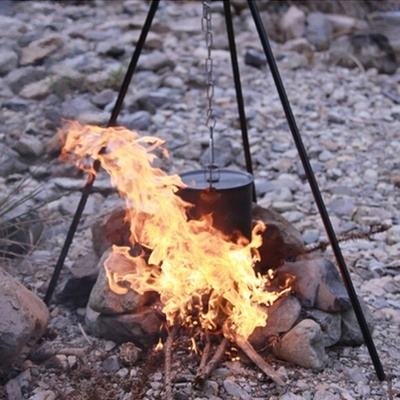fire: (85, 101, 298, 356)
